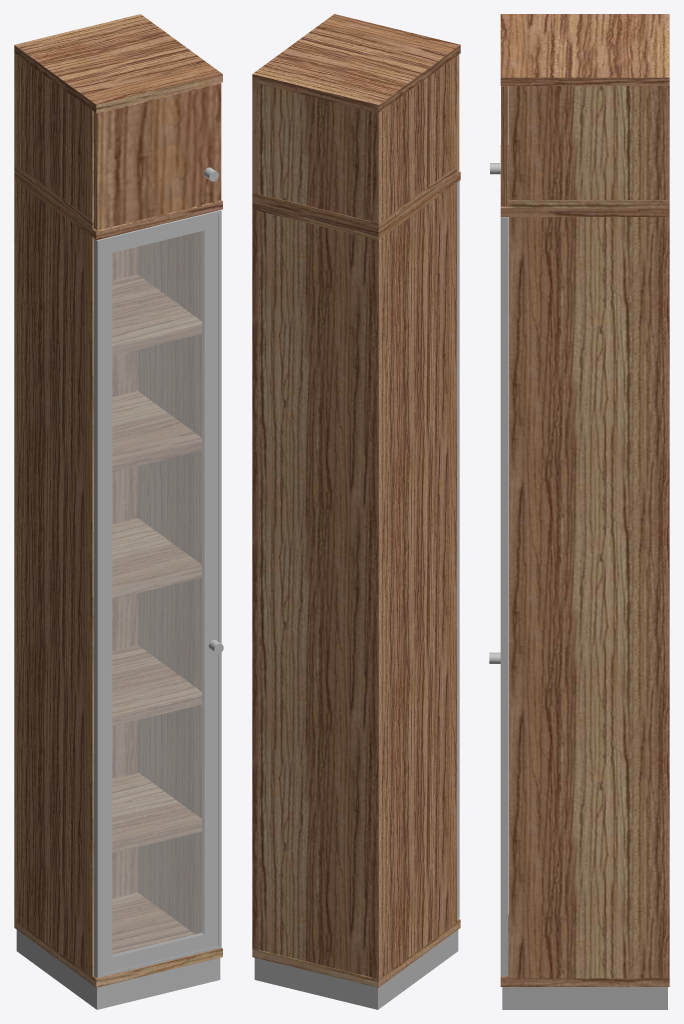
Rendered from baseline_6OH_+1OH_45x80_alu+satinato_display_case_fin.fbx.
3 renders of one model, left to right at view 1: azimuth 30°, elevation 25°; view 2: azimuth 150°, elevation 25°; view 3: azimuth 270°, elevation 25°, orthographic. The views are drawn at different scales.
Visible parts, largest first — view 1: body_mesh, szyba_mesh, front_dol_mesh, front_gora_mesh, podstawa_mesh; view 2: body_mesh, podstawa_mesh, front_dol_mesh; view 3: body_mesh, front_dol_mesh, podstawa_mesh, front_gora_mesh.
Part boxes in pixels (<box>): body_mesh: <box>14,14,222,987</box>; szyba_mesh: <box>100,214,218,974</box>; front_dol_mesh: <box>94,210,221,978</box>; front_gora_mesh: <box>94,83,221,230</box>; podstawa_mesh: <box>16,930,220,1009</box>; body_mesh: <box>252,14,460,987</box>; podstawa_mesh: <box>254,930,458,1009</box>; front_dol_mesh: <box>457,181,459,919</box>; body_mesh: <box>500,14,669,986</box>; front_dol_mesh: <box>500,217,508,976</box>; podstawa_mesh: <box>502,987,667,1009</box>; front_gora_mesh: <box>501,86,508,206</box>.
Bounding box in the file's own units: 40 × 274 × 48.
